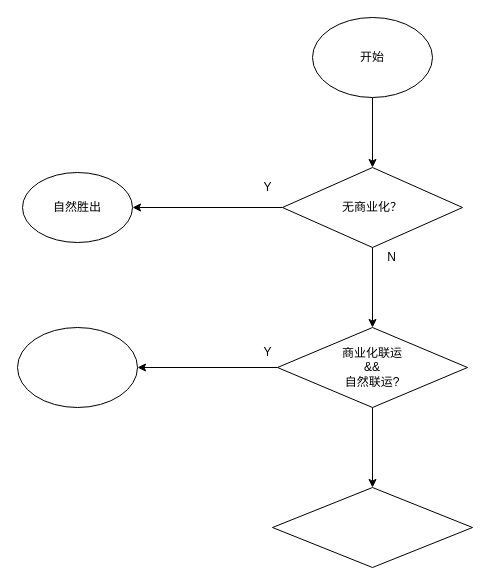
Image size: 490x585. Some labels were removed from this diagram. The shapes that lost their labels are listed below. From the top down, each one's box as (x1, y1, x2, y2) in pixels, then its label:
(16, 326, 138, 408): 自然联运胜出
(272, 486, 472, 568): 商业化 && 自然无强运营？
